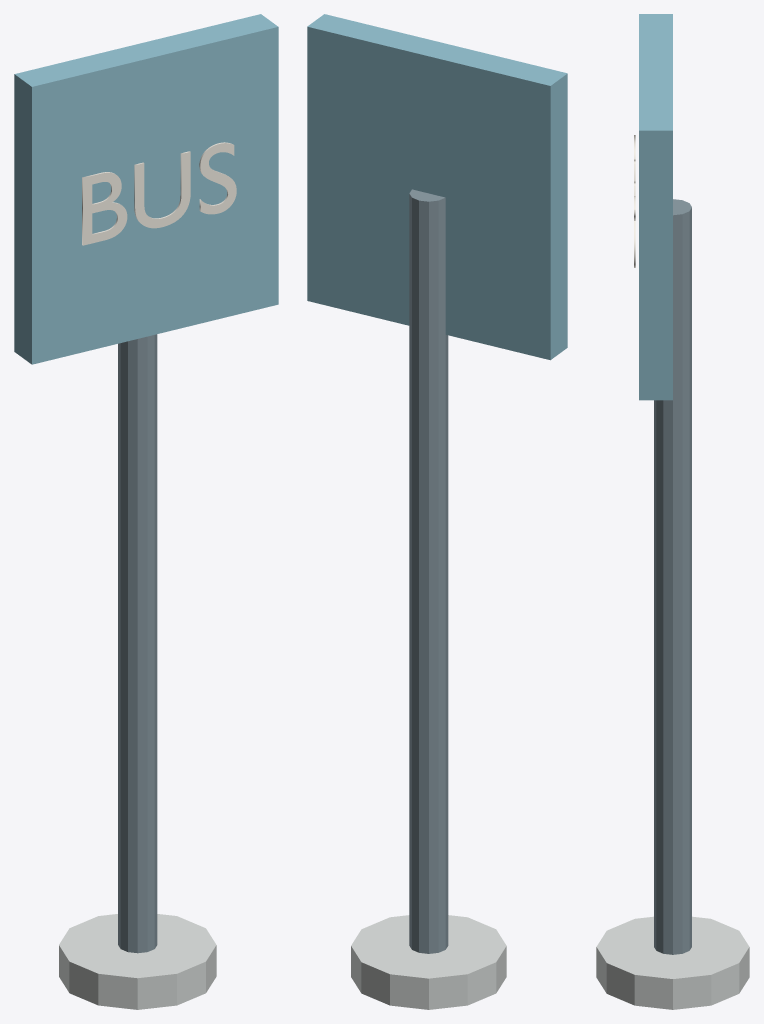
File: bus_stop.glb
3 renders of one model, left to right at view 1: azimuth 30°, elevation 25°; view 2: azimuth 150°, elevation 25°; view 3: azimuth 270°, elevation 25°, orthographic. The views are drawn at different scales.
Visible parts, largest first — view 1: bus_stop_002, bus_stop_000, bus_stop_001, bus_stop_003; view 2: bus_stop_002, bus_stop_000, bus_stop_001; view 3: bus_stop_000, bus_stop_002, bus_stop_001.
Part boxes in pixels (<box>): bus_stop_002: <box>14,14,278,364</box>; bus_stop_000: <box>118,334,157,953</box>; bus_stop_001: <box>59,914,216,1009</box>; bus_stop_003: <box>82,142,236,245</box>; bus_stop_002: <box>307,14,567,360</box>; bus_stop_000: <box>409,189,448,953</box>; bus_stop_001: <box>351,915,506,1009</box>; bus_stop_000: <box>654,199,691,954</box>; bus_stop_002: <box>639,14,672,400</box>; bus_stop_001: <box>596,916,749,1009</box>.
Size of the model in its own units: 0.65 by 2.35 by 0.36.
